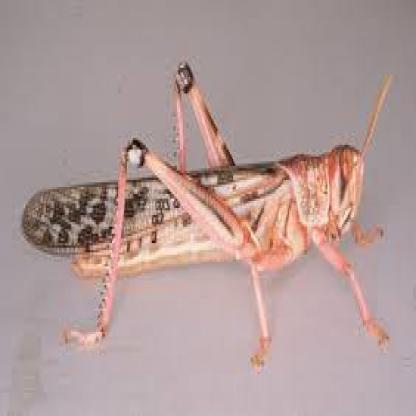grasshopper: (25, 54, 390, 356)
